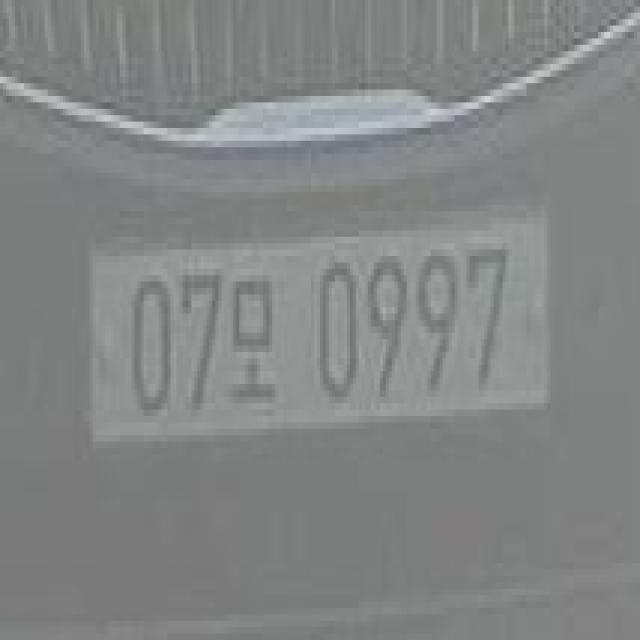illegal_plate: (83, 209, 560, 452)
